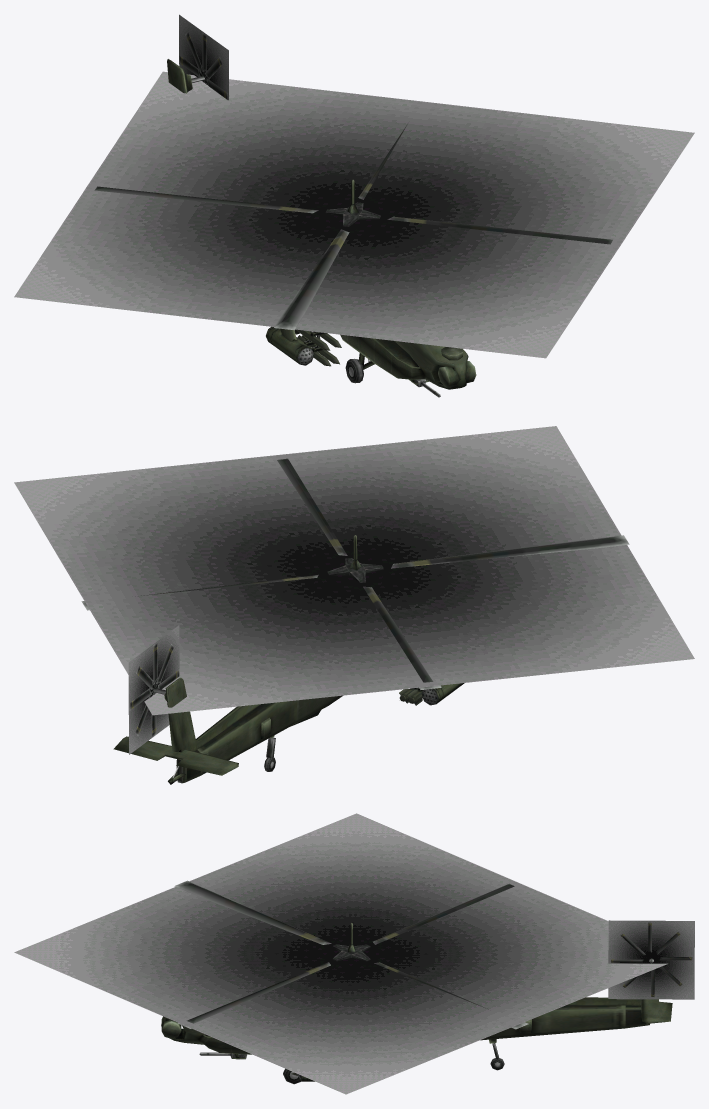
File: hunter.FBX
3 views of the same model, one above another, from view 1: azimuth 30°, elevation 25°; view 2: azimuth 150°, elevation 25°; view 3: azimuth 270°, elevation 25° (orthographic). The views are drawn at different scales.
Parts seen in each view (by area): view 1: vint_speed (×2), vint (×2), body, krilo_r, back; view 2: vint_speed (×2), back, vint (×2), body, krilo_r; view 3: vint_speed (×2), back, vint (×2), body.
Part boxes in pixels (left/top/right/bottom): vint_speed (×2): left=14, top=14, right=694, bottom=358; vint (×2): left=94, top=32, right=612, bottom=330; body: left=340, top=179, right=476, bottom=389; krilo_r: left=266, top=326, right=341, bottom=366; back: left=167, top=59, right=204, bottom=93; vint_speed (×2): left=14, top=426, right=694, bottom=754; back: left=113, top=677, right=298, bottom=784; vint (×2): left=81, top=458, right=629, bottom=737; body: left=291, top=535, right=361, bottom=726; krilo_r: left=399, top=683, right=464, bottom=705; vint_speed (×2): left=14, top=813, right=694, bottom=1094; back: left=480, top=958, right=672, bottom=1070; vint (×2): left=174, top=880, right=692, bottom=1029; body: left=161, top=923, right=355, bottom=1084.
Size of what is drawn, in the model's own units: 1949 by 514 by 1969.
